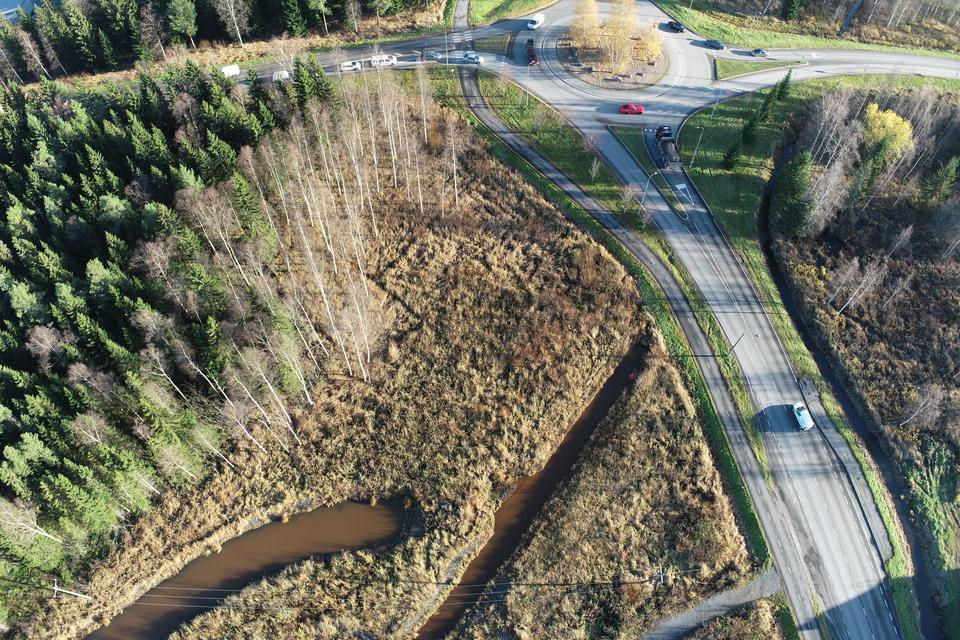intersection: (732, 537, 933, 640), (437, 12, 493, 86)
roundabout: (506, 0, 776, 179)
